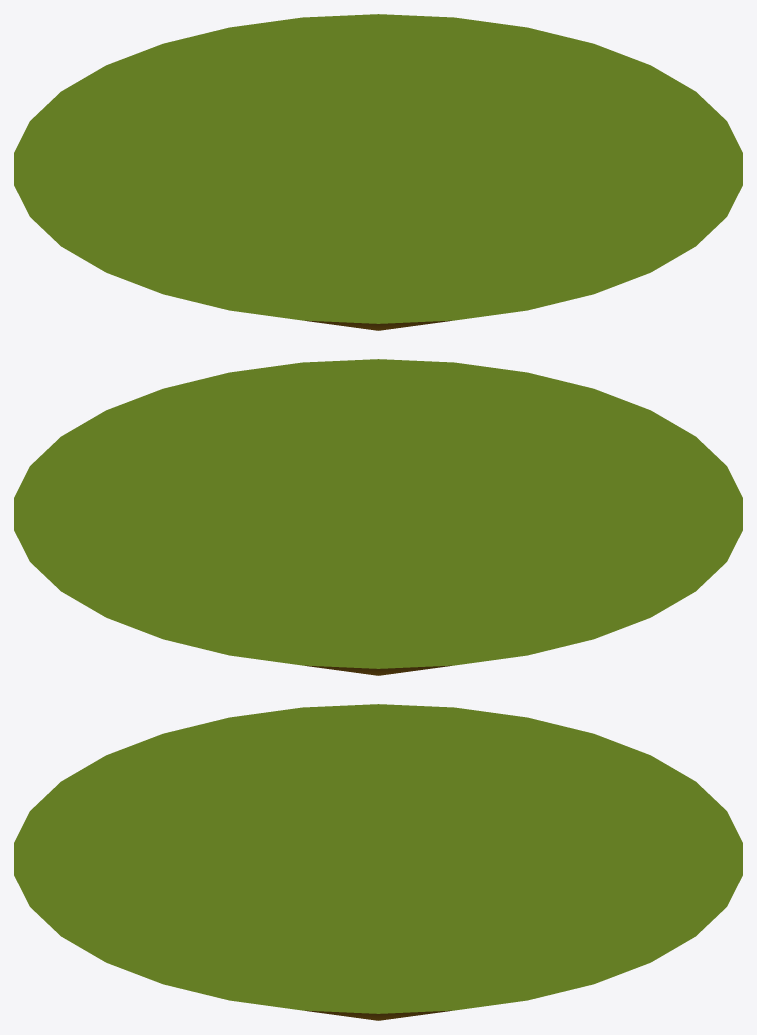
File: dodai12202.fbx
The picture shows the model from 3 angles, top to bottom: view 1: azimuth 30°, elevation 25°; view 2: azimuth 150°, elevation 25°; view 3: azimuth 270°, elevation 25°; orthographic projection.
Parts seen in each view (by area): view 1: pCone1; view 2: pCone1; view 3: pCone1.
Boxes of the visible parts, x1,y1,x2,y2 form: pCone1: [14, 14, 742, 330]; pCone1: [14, 359, 742, 675]; pCone1: [14, 704, 742, 1020].
Size of the model in its own units: 10.15 by 2.47 by 10.1.
